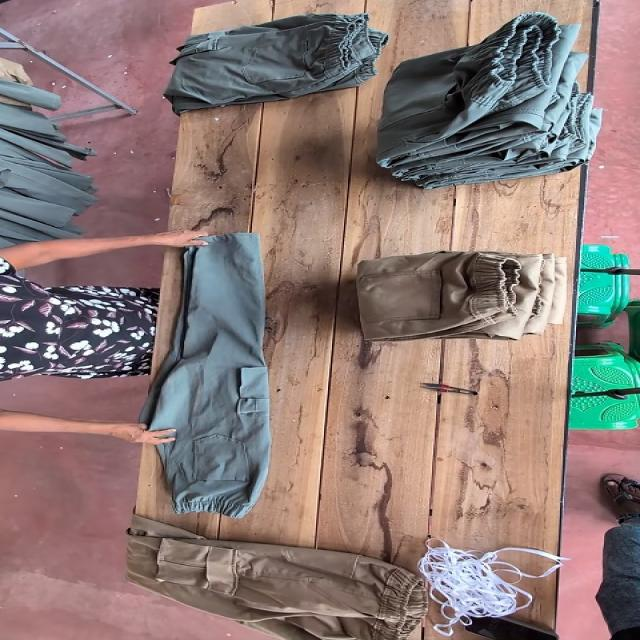new-garment: (143, 233, 269, 518)
